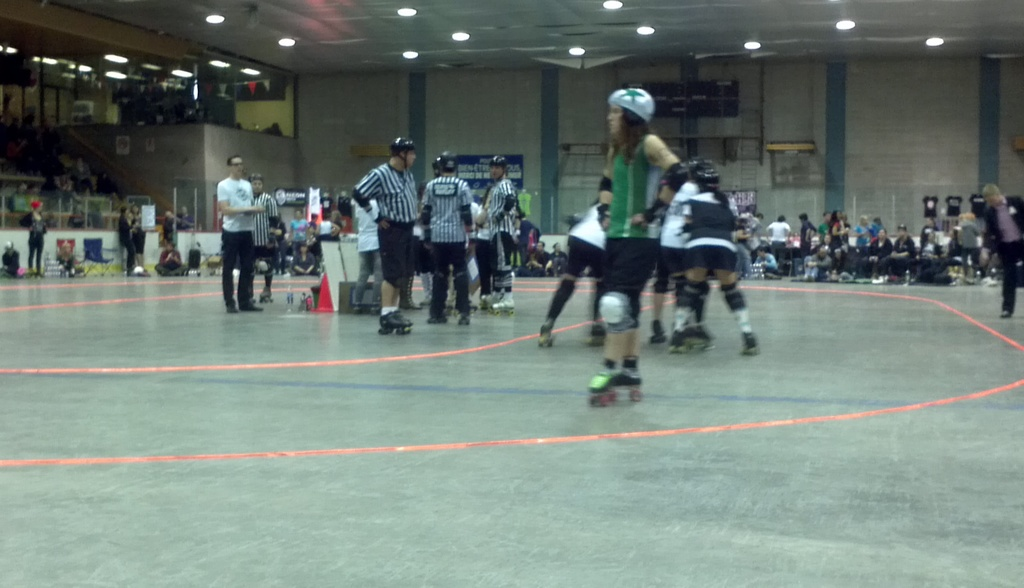Person: (0, 86, 1024, 391)
